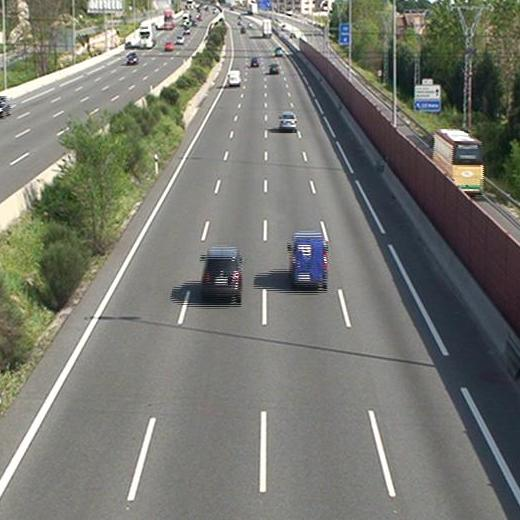car: (201, 248, 242, 298), (279, 111, 297, 129), (269, 62, 280, 72), (250, 56, 260, 66)
van: (288, 232, 327, 287), (227, 69, 240, 87)
